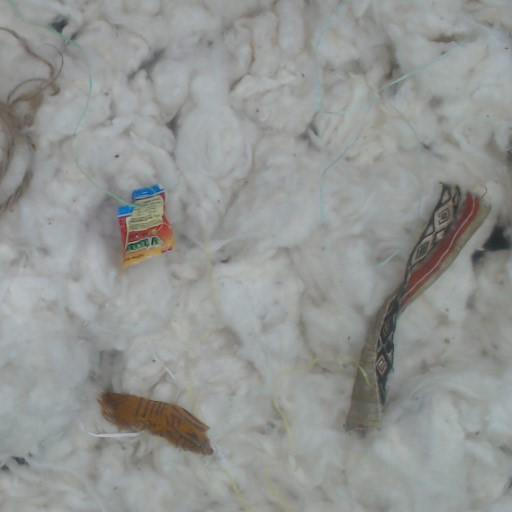cloth: (346, 183, 488, 431), (100, 391, 212, 454)
cotton: (0, 1, 511, 511)
jute: (0, 27, 55, 214)
packet: (118, 186, 173, 264)
